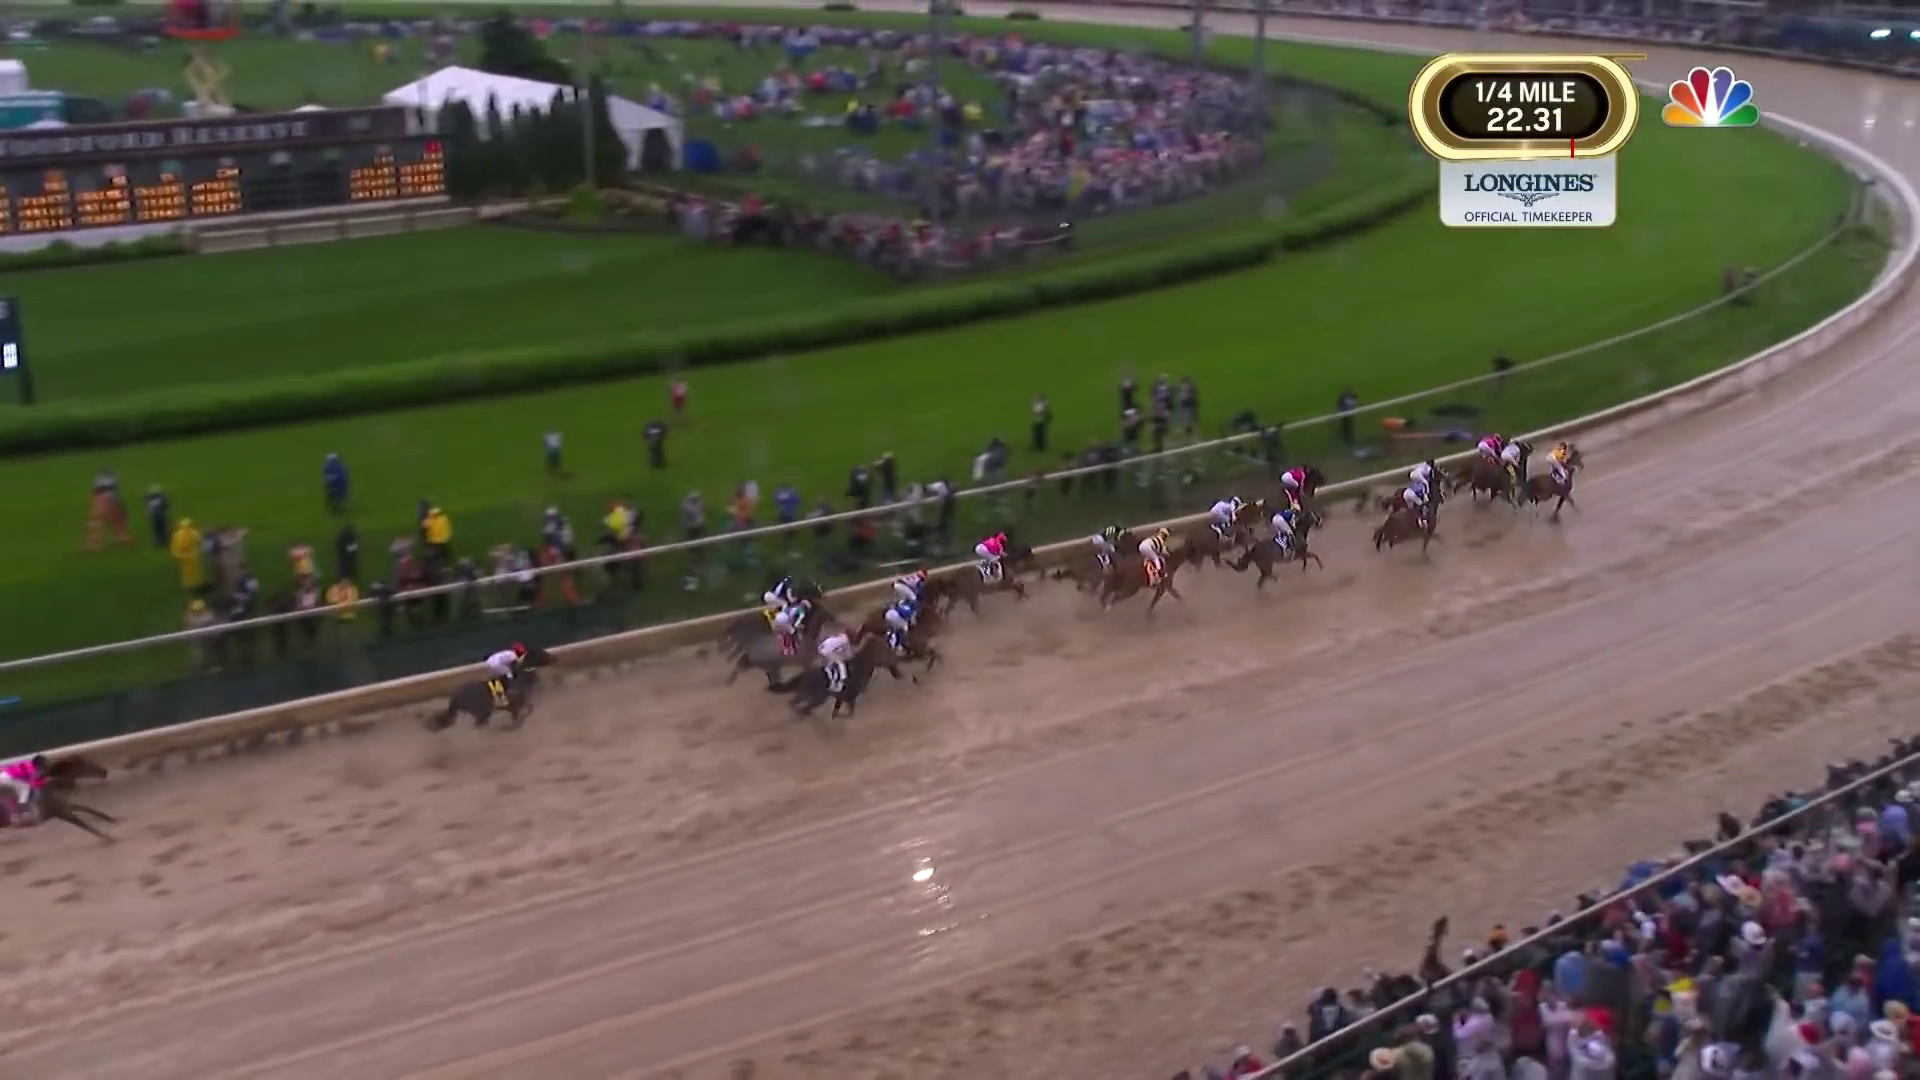jockey: (820, 632, 856, 679), (487, 646, 524, 688), (976, 531, 1010, 574), (773, 603, 808, 641), (1095, 524, 1127, 563), (1135, 527, 1168, 567), (1209, 498, 1242, 535), (895, 568, 927, 607), (1271, 504, 1298, 545), (1280, 464, 1309, 498), (1545, 442, 1569, 480), (1402, 487, 1428, 521), (1478, 433, 1502, 468), (1501, 442, 1524, 473)
